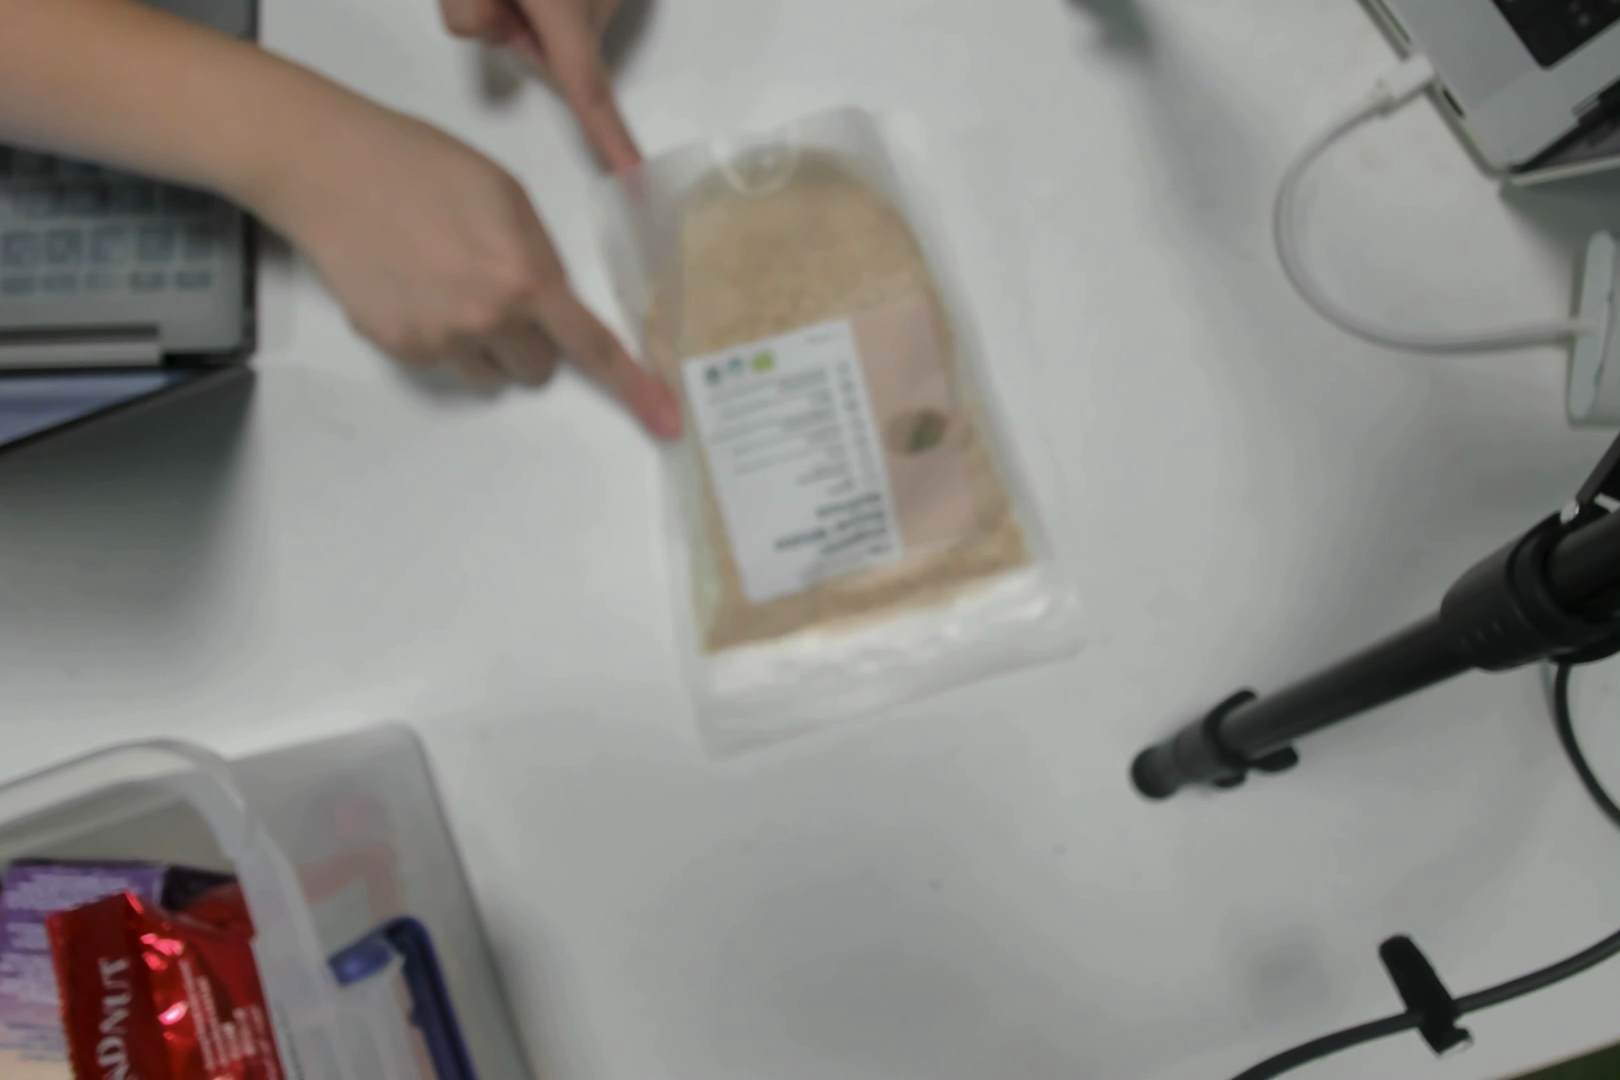Rice(brown-others)_400-499g_Halal_NonHealthy: (667, 171, 1020, 677)
